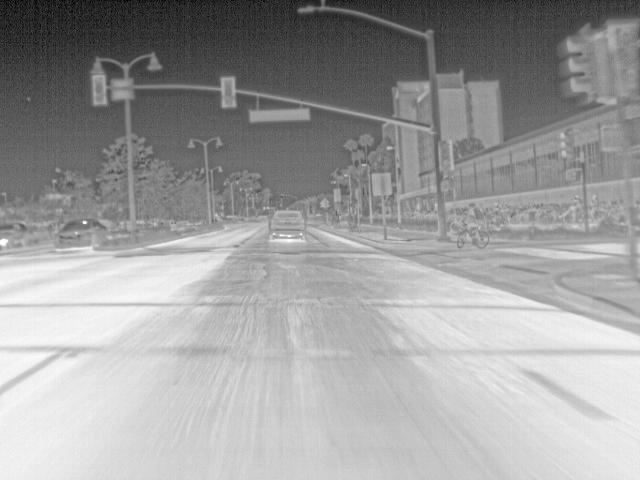car: (53, 218, 107, 250), (268, 208, 306, 241), (0, 222, 30, 248)
person: (465, 200, 485, 230)
